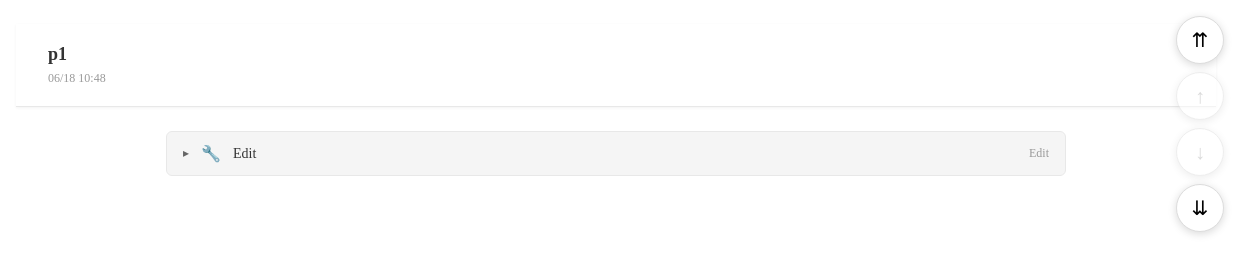
Test case: Conversation 编辑工具显示行级 diff › 历史 Edit tool_use 展开后用 DiffView 显示增删行,而非原始 JSON
Step 1. Click the 1st text "Edit" → coordinates (245, 153), box [233,146,256,160]
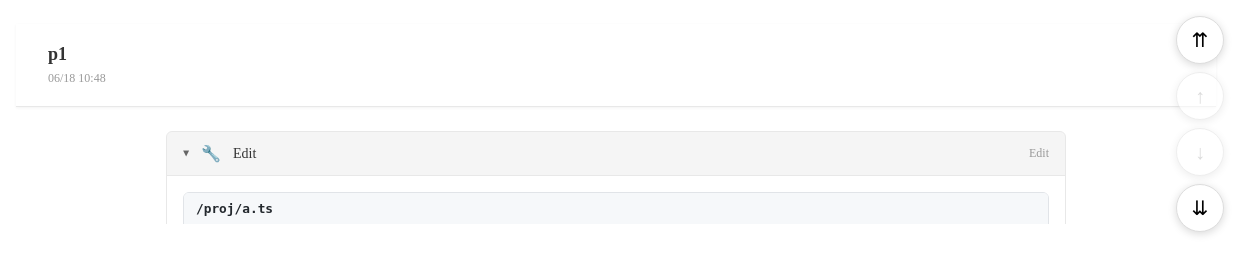
Check: the text "/proj/a.ts" is shown, box [184,193,1048,224]
